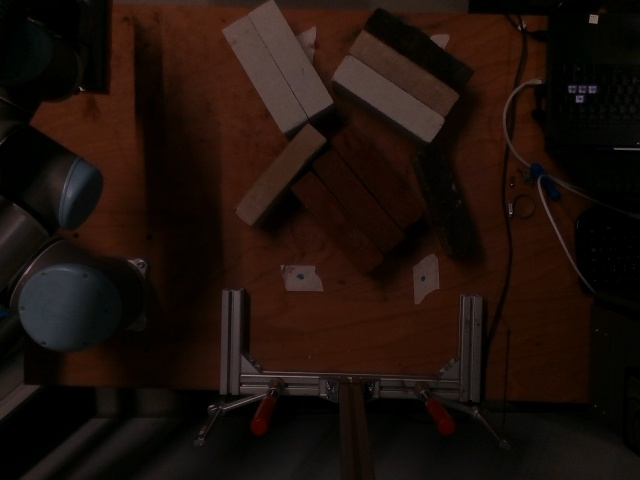brick-side: (231, 123, 323, 229), (333, 124, 424, 231), (291, 166, 382, 272), (313, 145, 404, 251), (251, 0, 333, 117), (333, 55, 443, 140), (347, 30, 457, 115), (365, 8, 475, 92), (226, 17, 307, 129)
